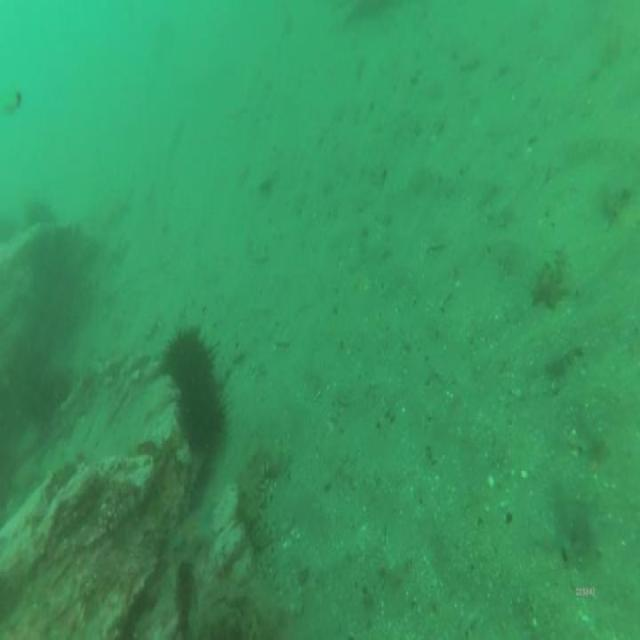echinus: (175, 384, 225, 450), (164, 330, 212, 387)
holothurian: (238, 444, 278, 548)
starfish: (179, 499, 214, 558), (532, 264, 561, 310)
